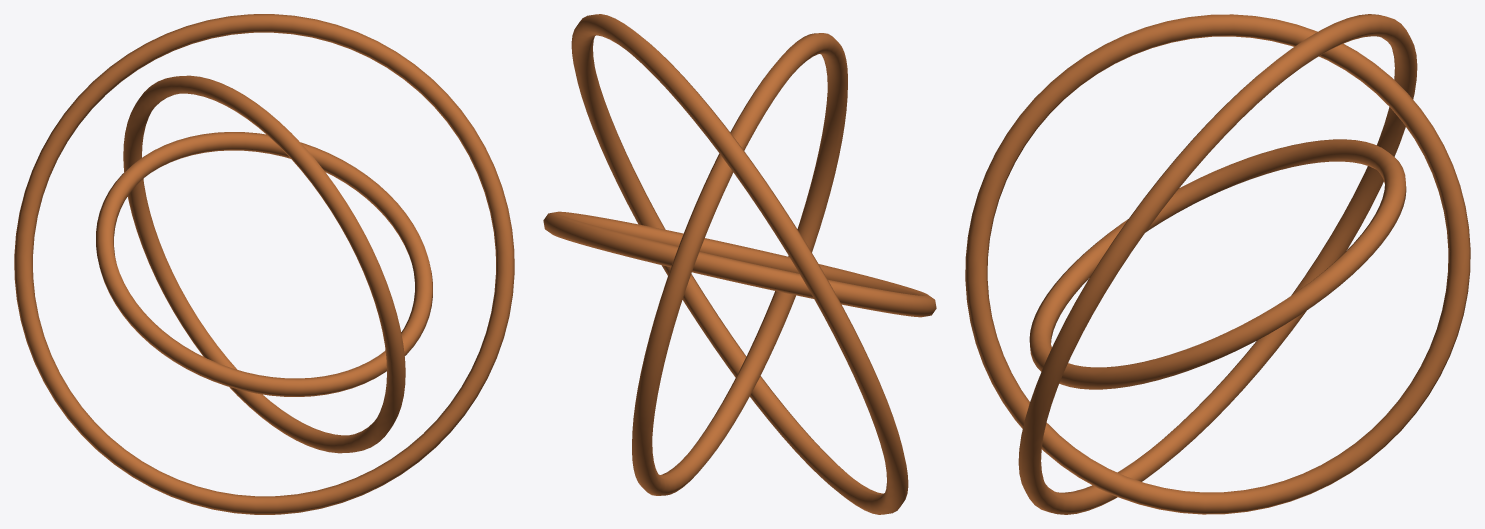
Rendered from kernringe.obj.
The picture shows the model from 3 angles, left to right: view 1: azimuth 30°, elevation 25°; view 2: azimuth 150°, elevation 25°; view 3: azimuth 270°, elevation 25°; orthographic projection. The views are drawn at different scales.
Parts seen in each view (by area): view 1: Kernringe; view 2: Kernringe; view 3: Kernringe.
Boxes of the visible parts, x1=… form: Kernringe: x1=14, y1=14, x2=514, y2=514; Kernringe: x1=543, y1=14, x2=936, y2=514; Kernringe: x1=965, y1=14, x2=1470, y2=514.
Bounding box in the file's own units: 27.73 × 29.67 × 26.88.
